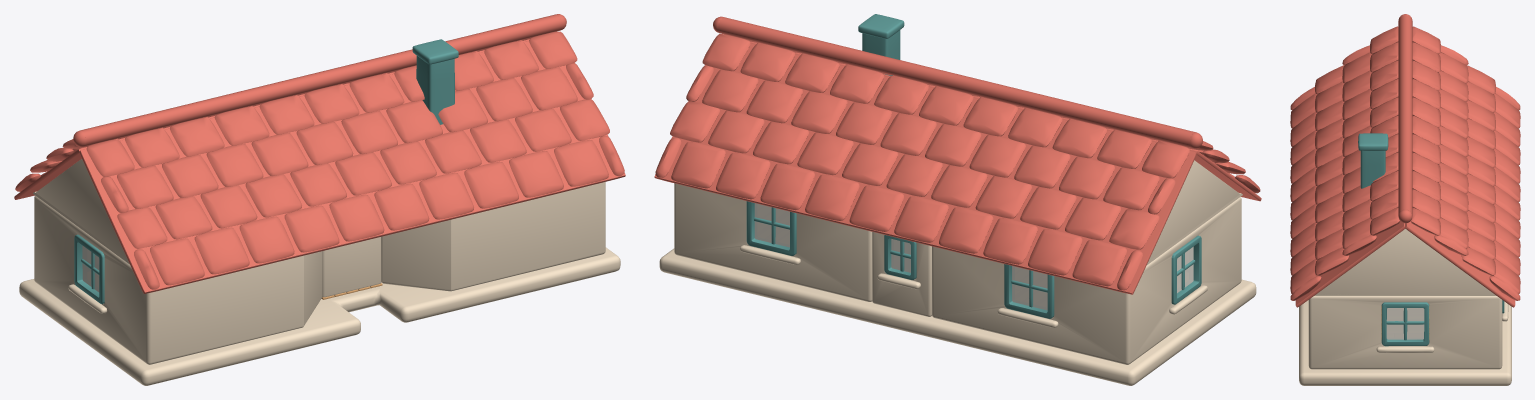
The model's file is four_corners_stage2.glb.
3 views of the same model, side by side, from view 1: azimuth 30°, elevation 25°; view 2: azimuth 150°, elevation 25°; view 3: azimuth 270°, elevation 25° (orthographic). The views are drawn at different scales.
Parts seen in each view (by area): view 1: roof, room_1_walls, room_2_walls, base, hallway_walls, room_1_windows; view 2: roof, room_1_walls, base, room_2_walls, room_1_windows, hallway_walls, room_2_windows, hallway_windows; view 3: roof, room_2_walls, base, room_2_windows.
Boxes of the visible parts, x1,y1,x2,y2 form: roof: (14,14,625,293); room_1_walls: (34,195,322,364); room_2_walls: (381,182,605,291); base: (19,247,620,385); hallway_walls: (322,237,381,297); room_1_windows: (68,234,107,313); roof: (654,14,1261,294); room_1_walls: (932,197,1241,364); base: (659,248,1256,385); room_2_walls: (674,183,872,301); room_1_windows: (997,235,1207,327); hallway_walls: (872,232,931,316); room_2_windows: (740,201,800,264); hallway_windows: (877,235,920,289); roof: (1290,14,1520,307); room_2_walls: (1308,296,1502,369); base: (1299,300,1511,385); room_2_windows: (1376,300,1508,352).
Size of the model in its own units: 14.78 by 6.52 by 7.14.
